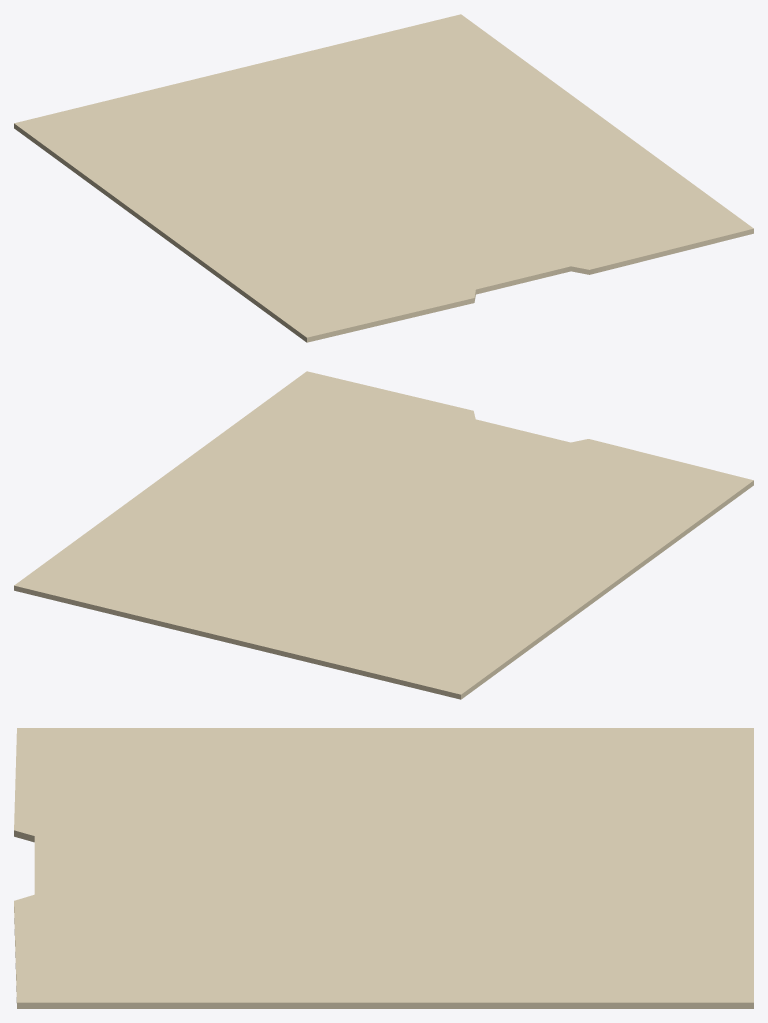
File: Light Floor.fbx
3 renders of one model, top to bottom at view 1: azimuth 30°, elevation 25°; view 2: azimuth 150°, elevation 25°; view 3: azimuth 270°, elevation 25°, orthographic. The views are drawn at different scales.
Parts seen in each view (by area): view 1: pCube3; view 2: pCube3; view 3: pCube3.
Boxes of the visible parts, x1,y1,x2,y2 form: pCube3: [14, 14, 753, 342]; pCube3: [14, 371, 753, 699]; pCube3: [14, 728, 753, 1008].
Bounding box in the file's own units: 28 × 0.3023 × 31.9.
